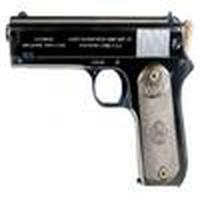gun: (6, 11, 194, 191)
